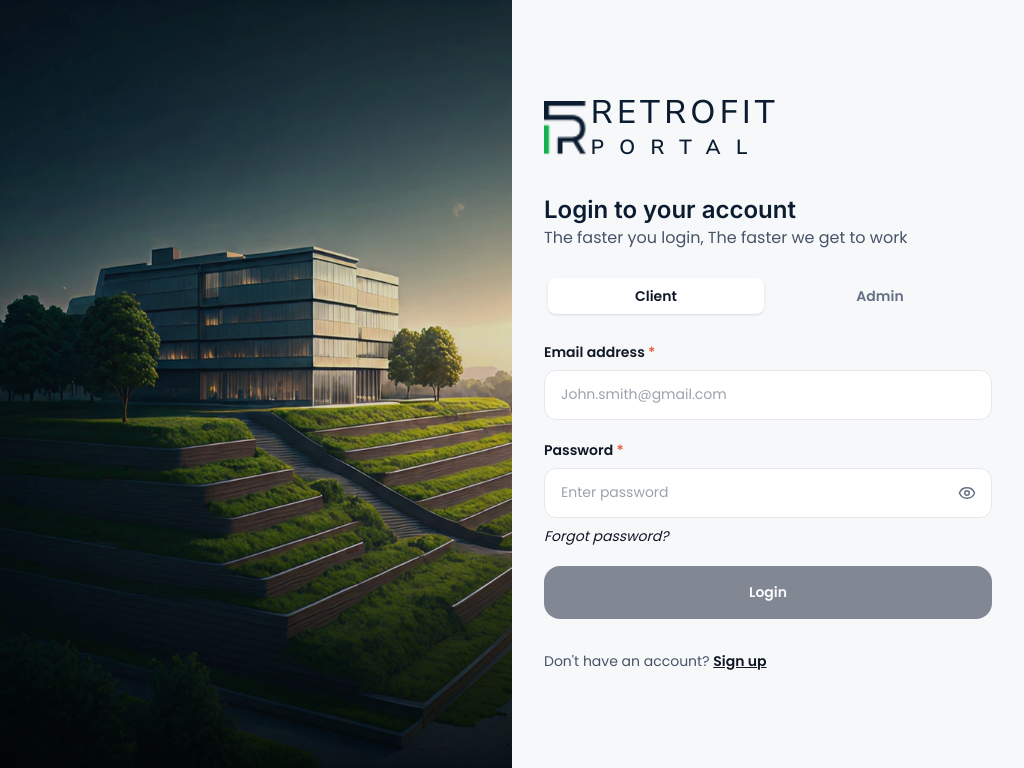
Test case: Login form validation › shows an error for an invalid email after blur
The width and height of the screenshot is (1024, 768).
In the field labelled "Email address *": (768, 395) x1=544 y1=370 x2=992 y2=420, type "not-an-email"
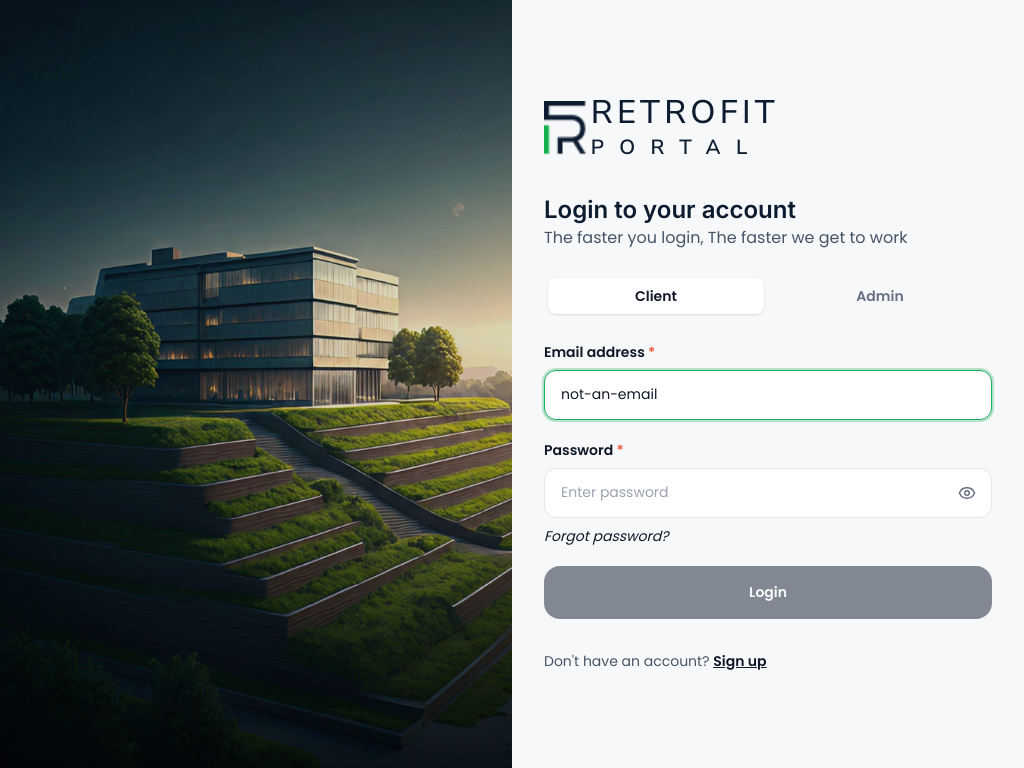
Press Tab
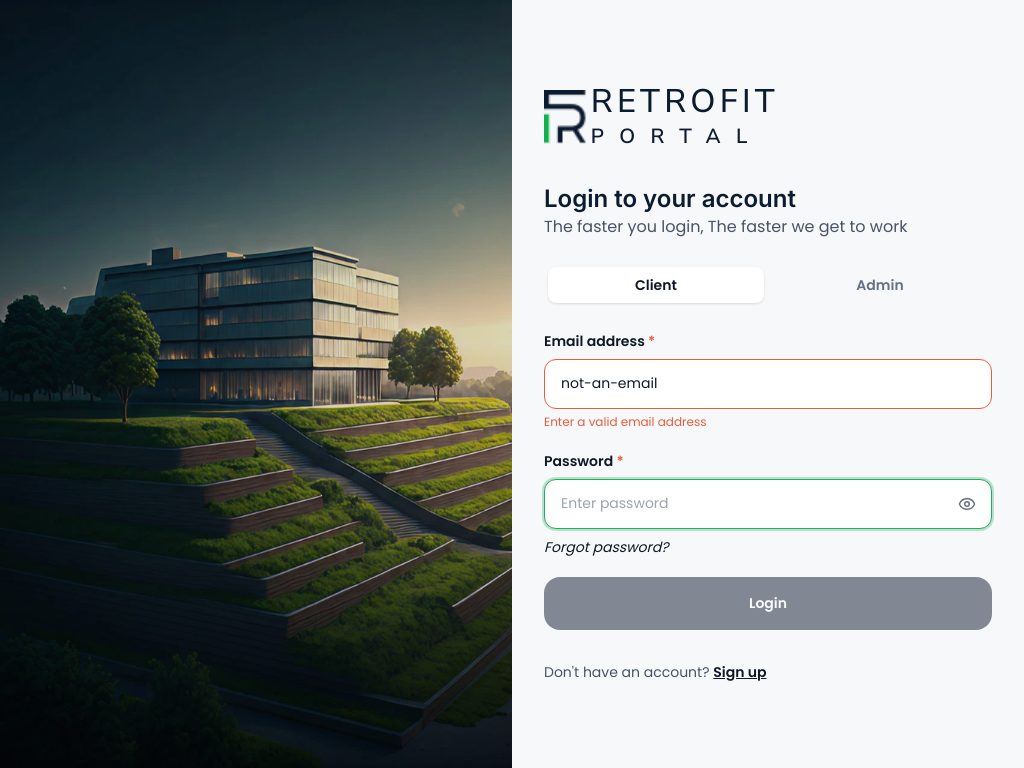
Expected: the text "Enter a valid email address" is shown, x1=544 y1=413 x2=706 y2=430
